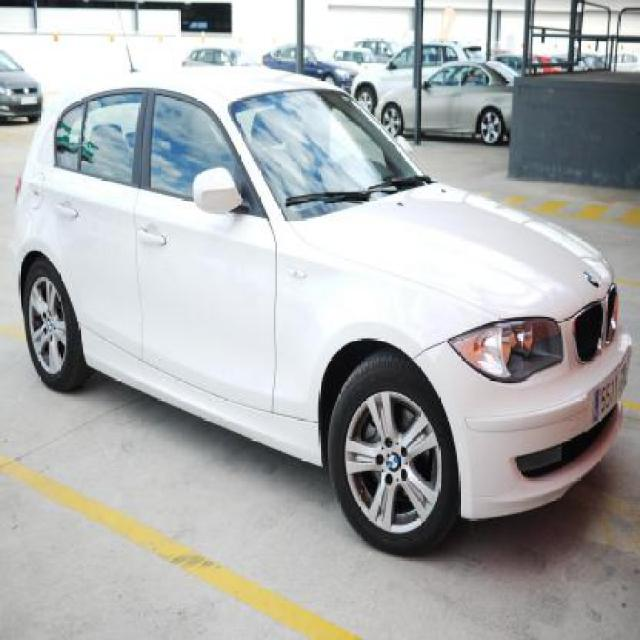License-Plates: (574, 338, 640, 431)
